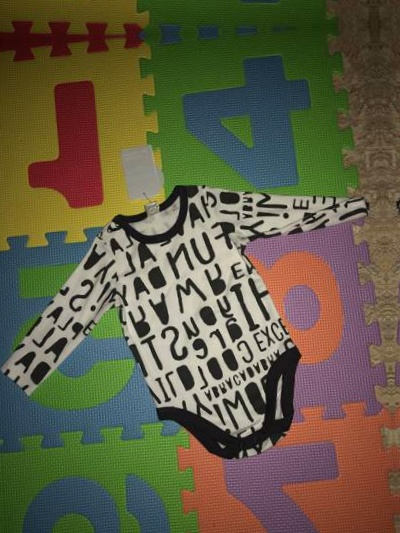Body: (0, 144, 391, 472), (385, 126, 400, 454)
